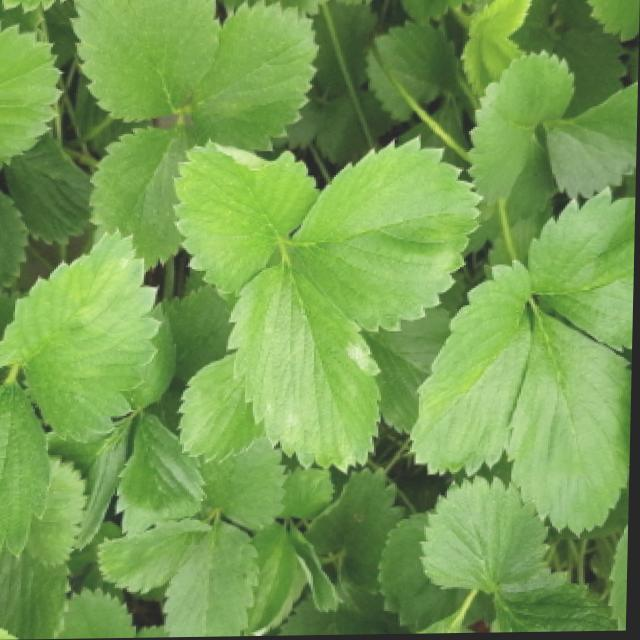Powdery Mildew Leaf: (229, 266, 385, 477), (173, 140, 321, 295)
